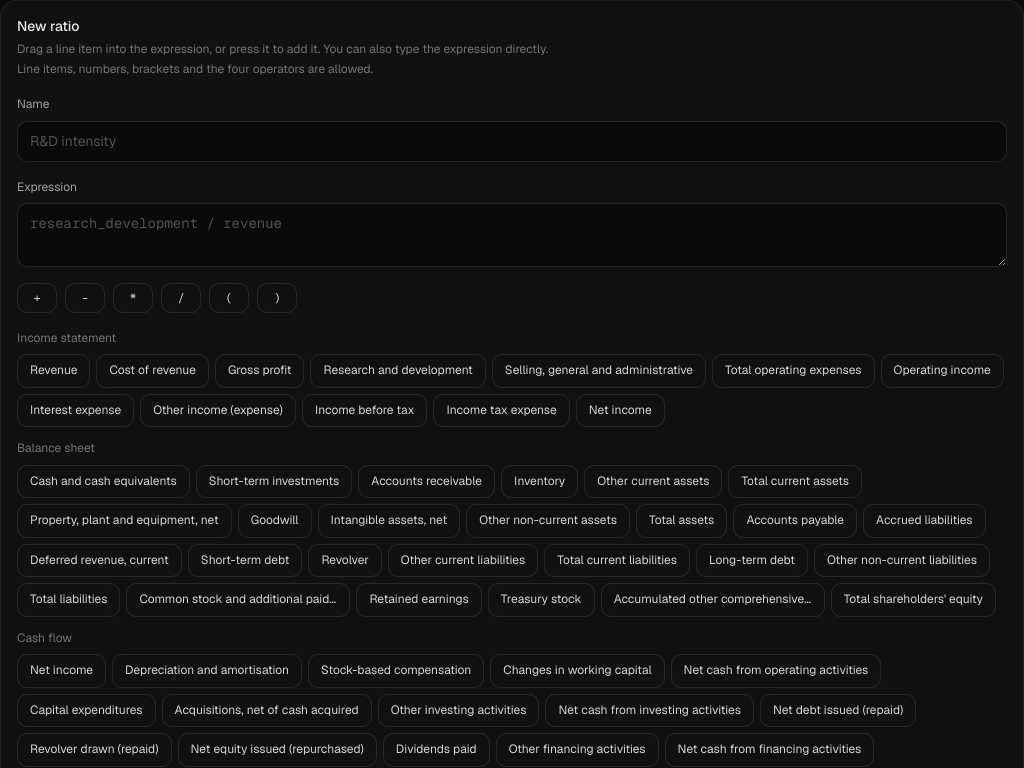
Test case: building an expression › appends a line item when its add button is pressed
Click the button with aria-label "add Revenue to the expression" at (54, 371), box x1=17 y1=354 x2=90 y2=388
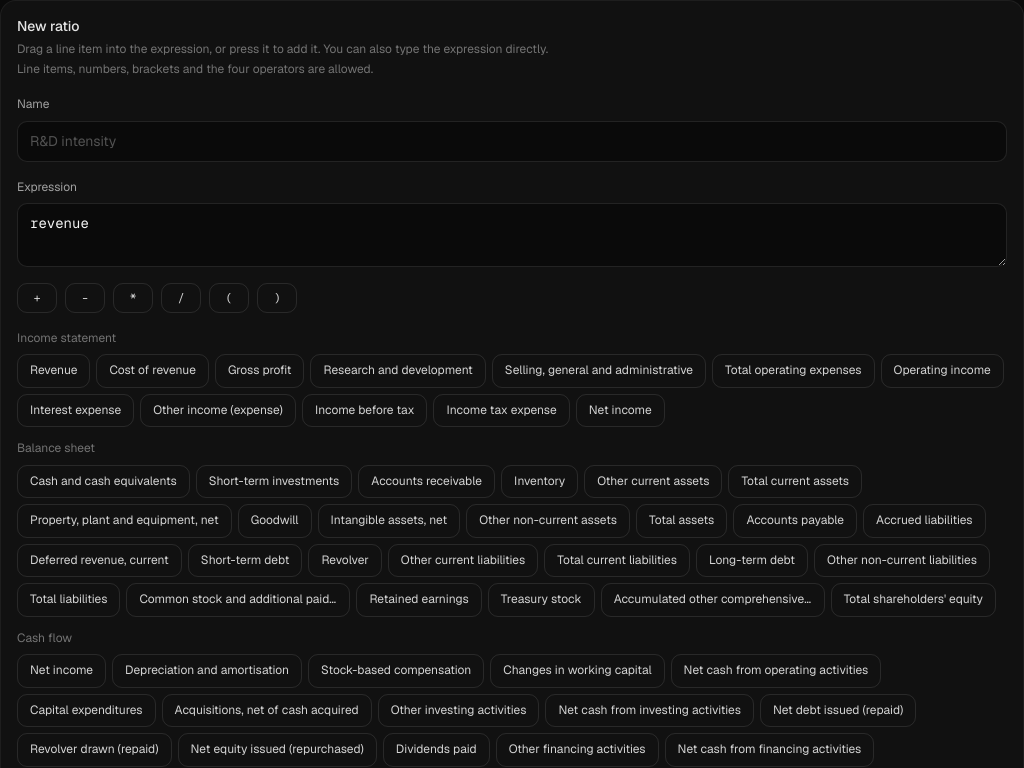
Now the text box labelled "Expression" holds "revenue", box x1=17 y1=203 x2=1007 y2=266
